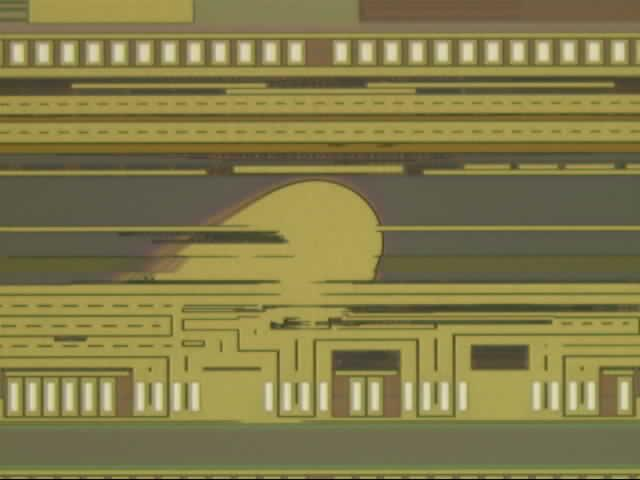BLOCK ETCH: (82, 172, 395, 341)
